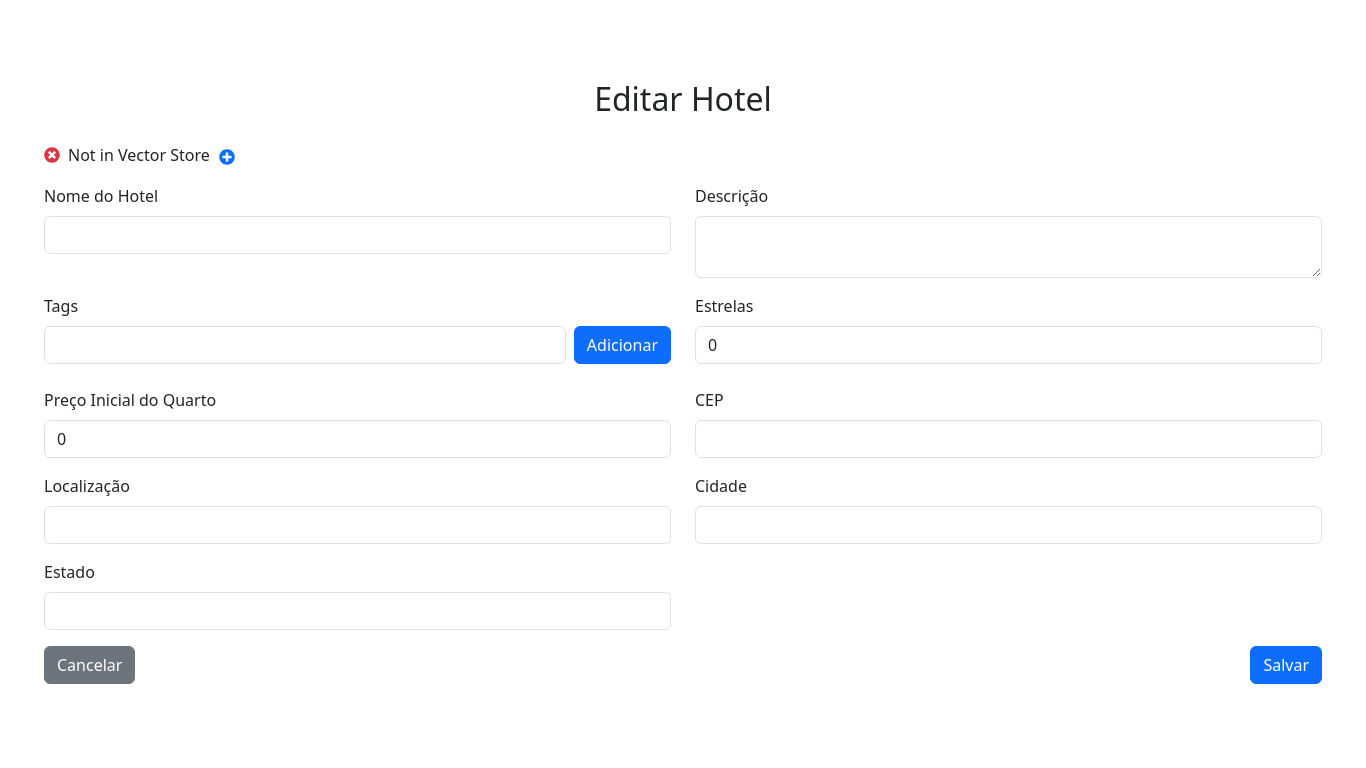
it: HotelForm component › adds hotel to vector store successfully and updates state
Expected: the text "Not in Vector Store" is shown, [68,143,210,167]
What coordinates should you click on to do the following:
click the button named "adicionar ao vector store"
I would click on:
 (227, 155)
Its box is [218,142,236,168].
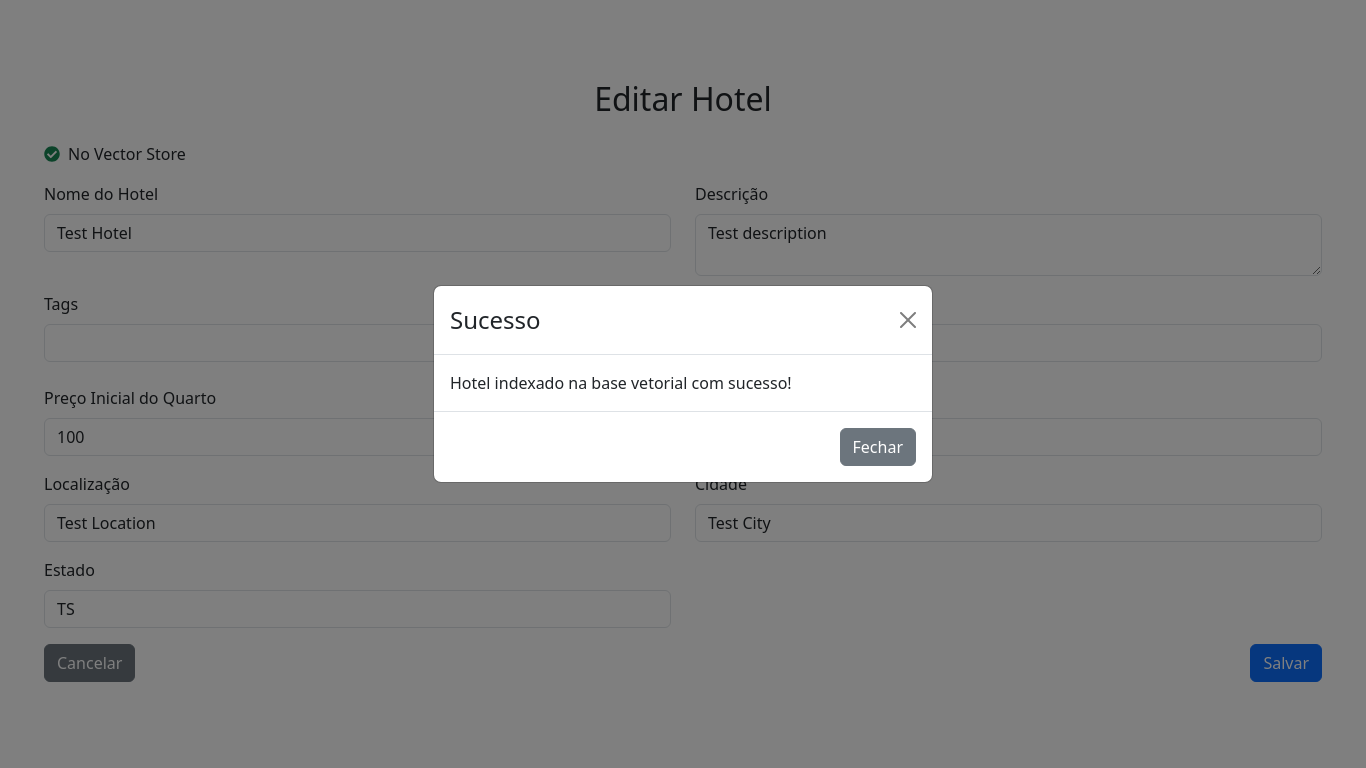
Result: the text "Hotel indexado na base vetorial com sucesso!" is shown at [450,372,792,394]
Result: the text "No Vector Store" is shown at [68,142,186,166]
